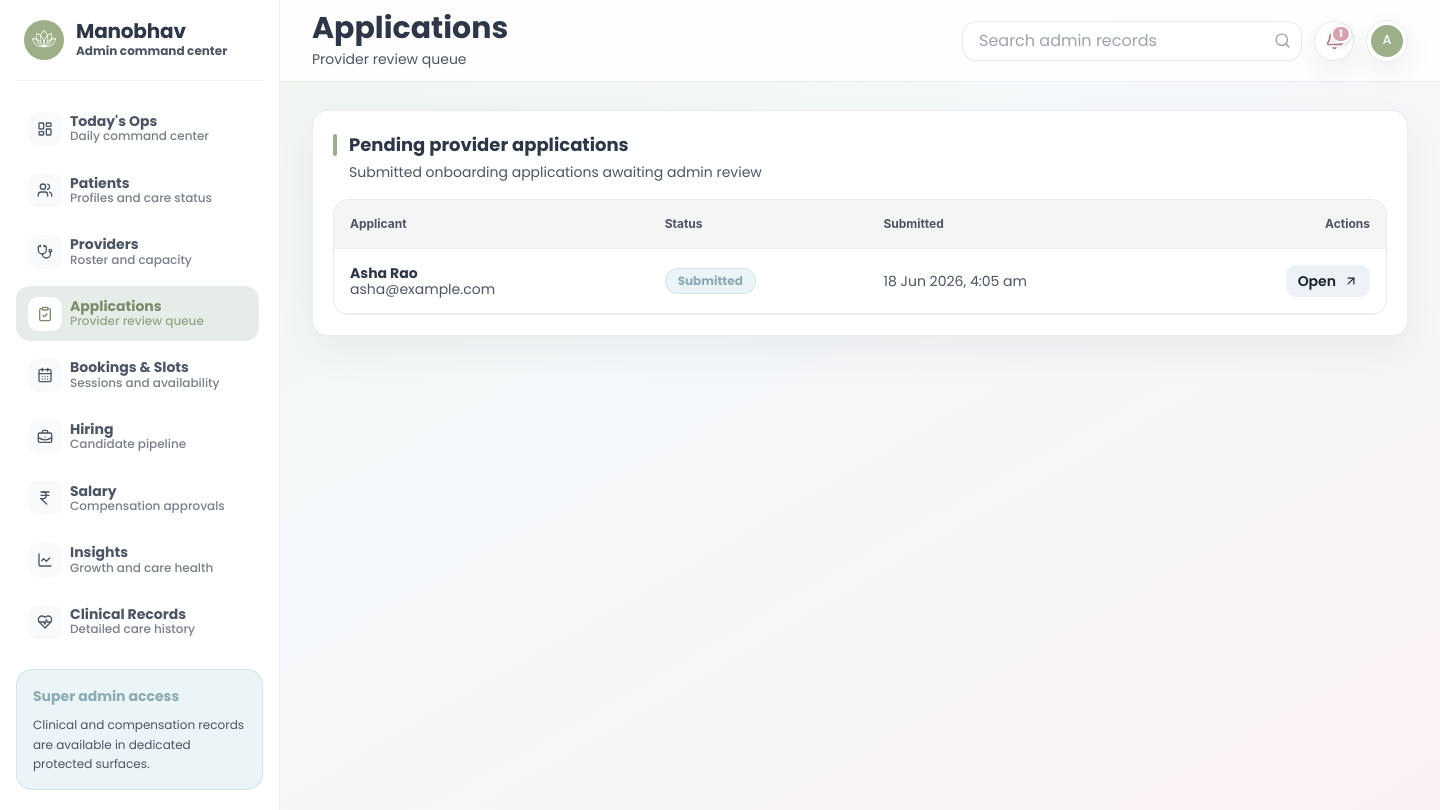
it: AdminDashboardRoute admin application review flow › opens a provider application detail view from the pending applications list
Click the link with aria-label "open application for Asha Rao" at (1328, 281), box [1286,265,1370,297]
(page scrolled)
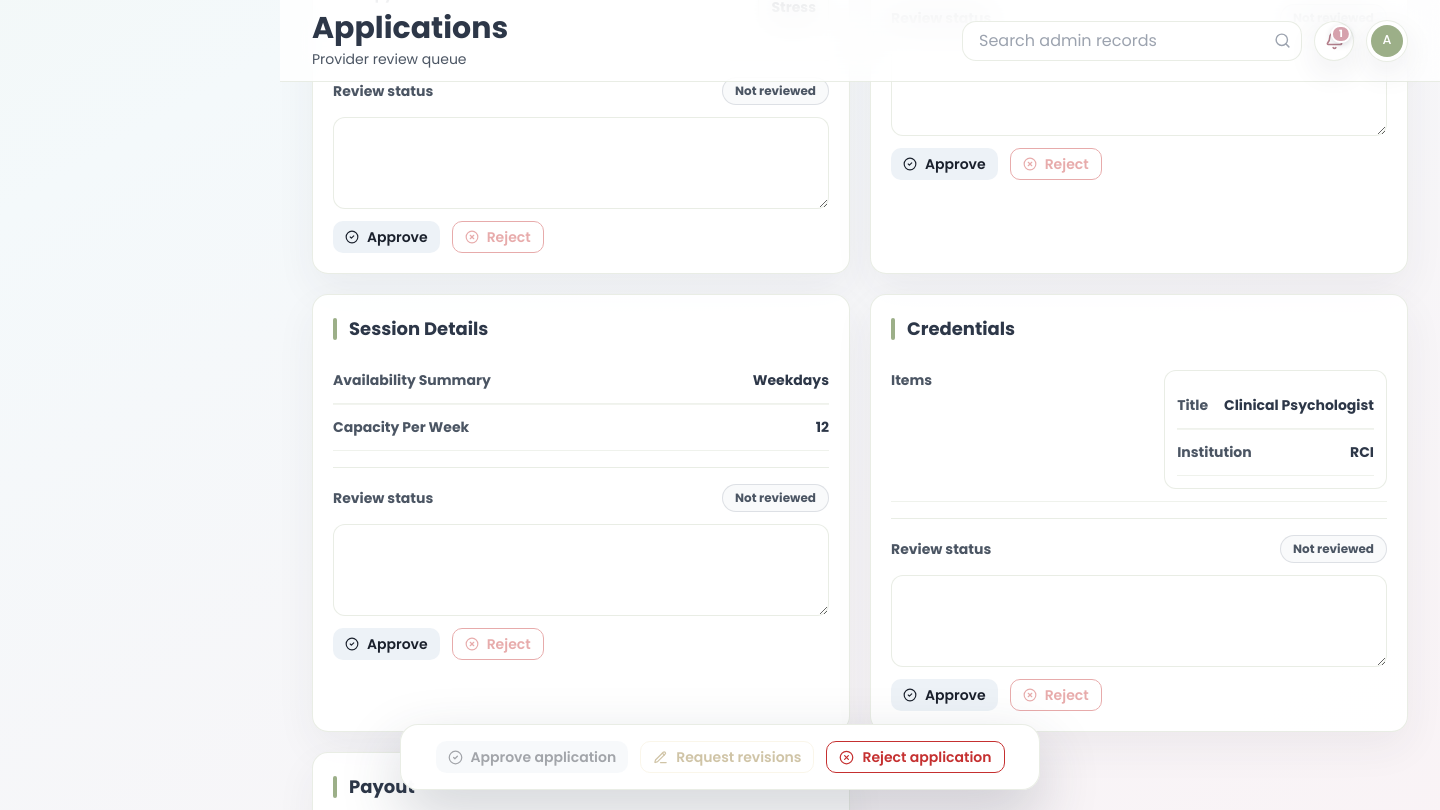
Check: the text "Clinical Psychologist" is shown, box [1224,395,1374,416]
